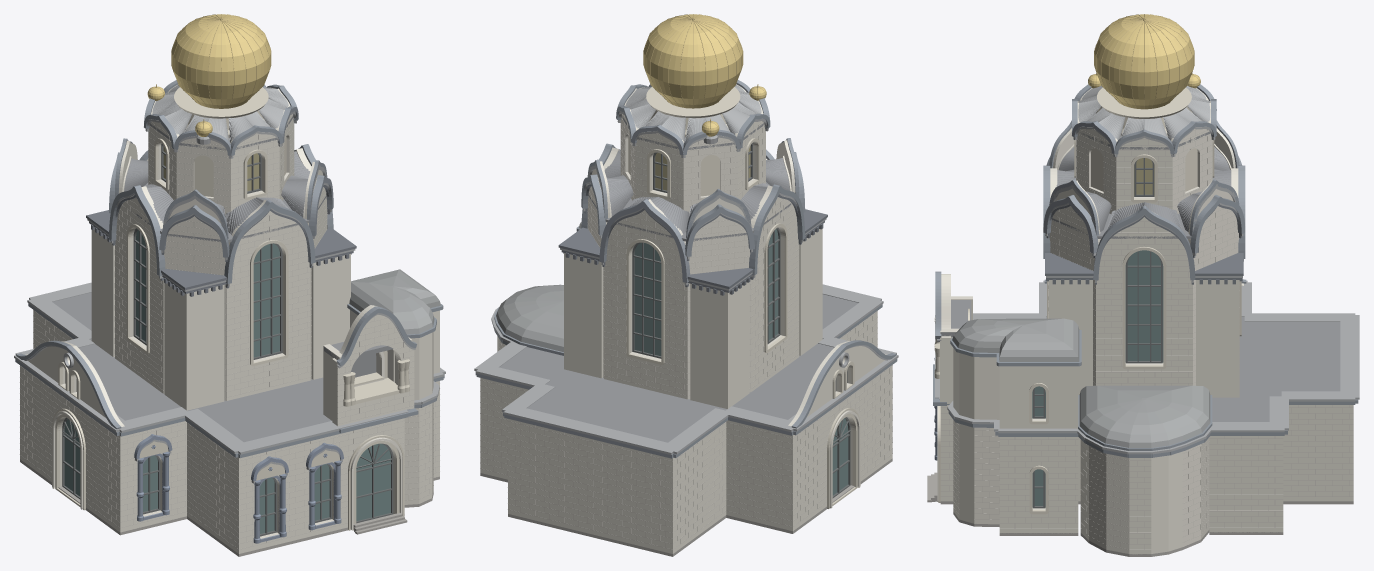
Rendered from huangpu-gaolan-st-nicholas-church-raw.glb.
3 views of the same model, side by side, from view 1: azimuth 30°, elevation 25°; view 2: azimuth 150°, elevation 25°; view 3: azimuth 270°, elevation 25° (orthographic).
Parts seen in each view (by area): view 1: 皋兰路圣尼古拉斯堂主堂; view 2: 皋兰路圣尼古拉斯堂主堂; view 3: 皋兰路圣尼古拉斯堂主堂.
Part boxes in pixels (x1,y1,x2,y2): 皋兰路圣尼古拉斯堂主堂: (14, 14, 445, 556); 皋兰路圣尼古拉斯堂主堂: (474, 14, 898, 556); 皋兰路圣尼古拉斯堂主堂: (927, 14, 1359, 556).
Size of the model in its own units: 13.25 by 16.08 by 14.09.
